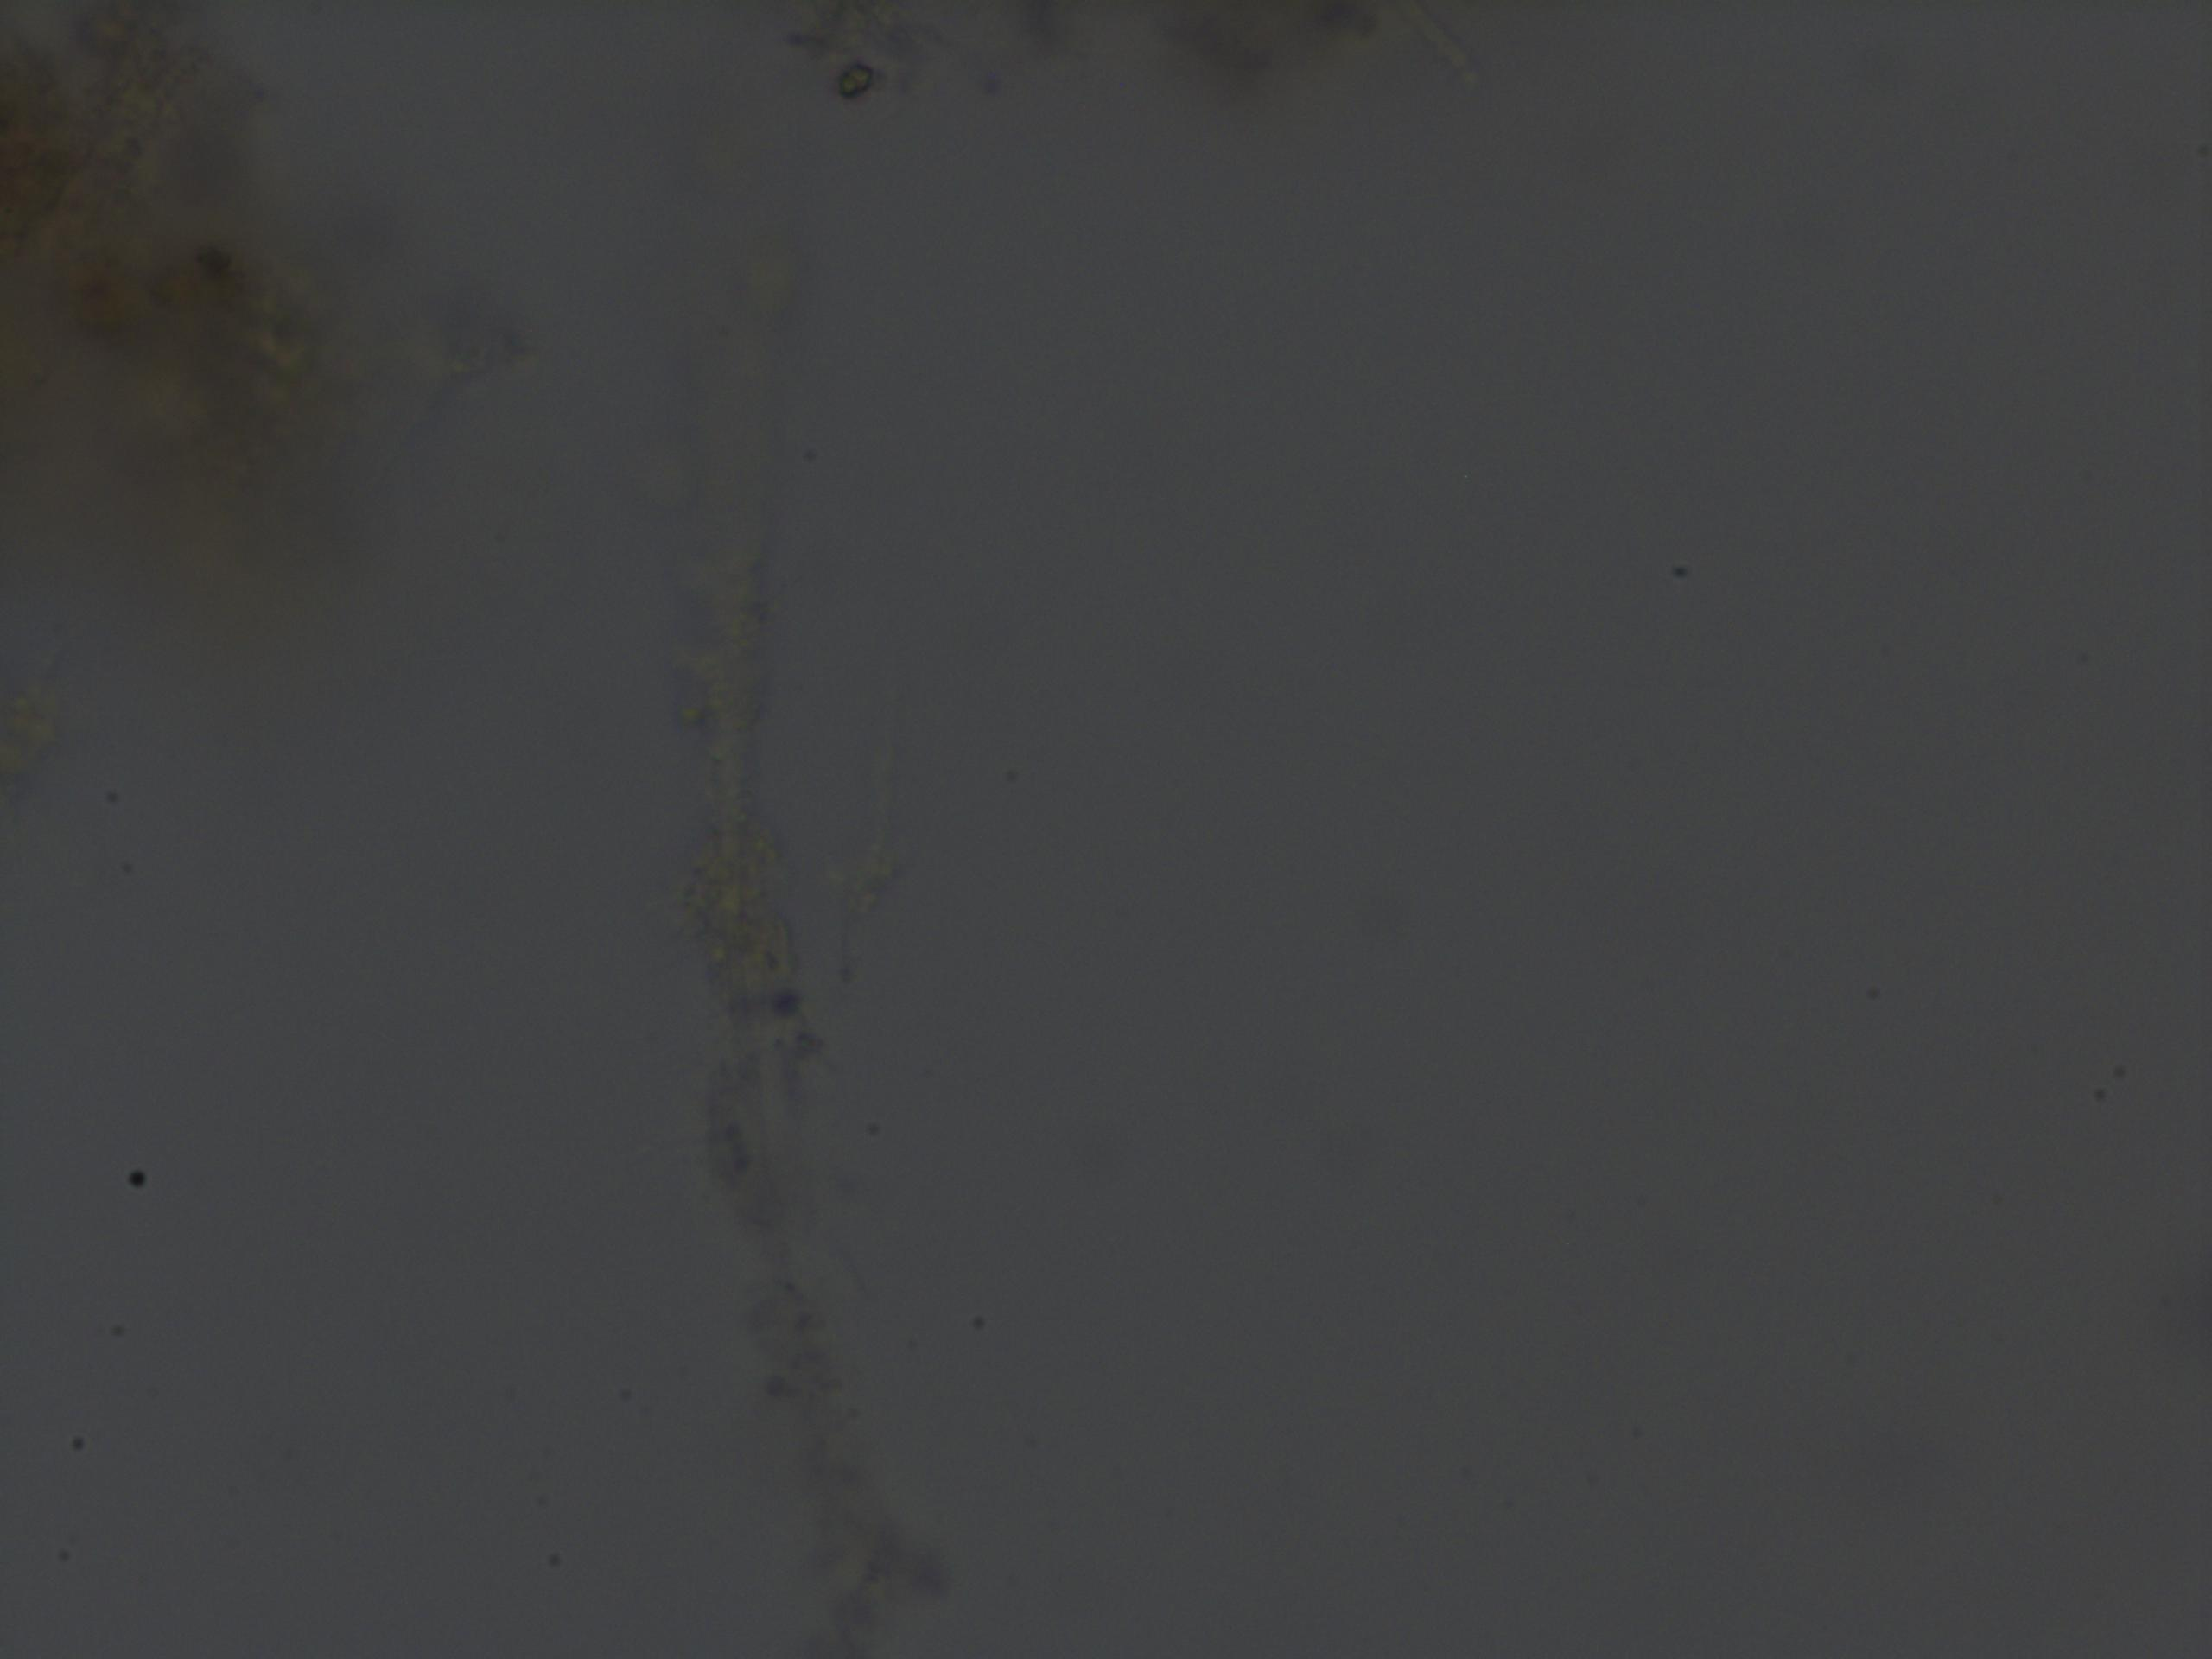filament: (676, 0, 951, 1659)
